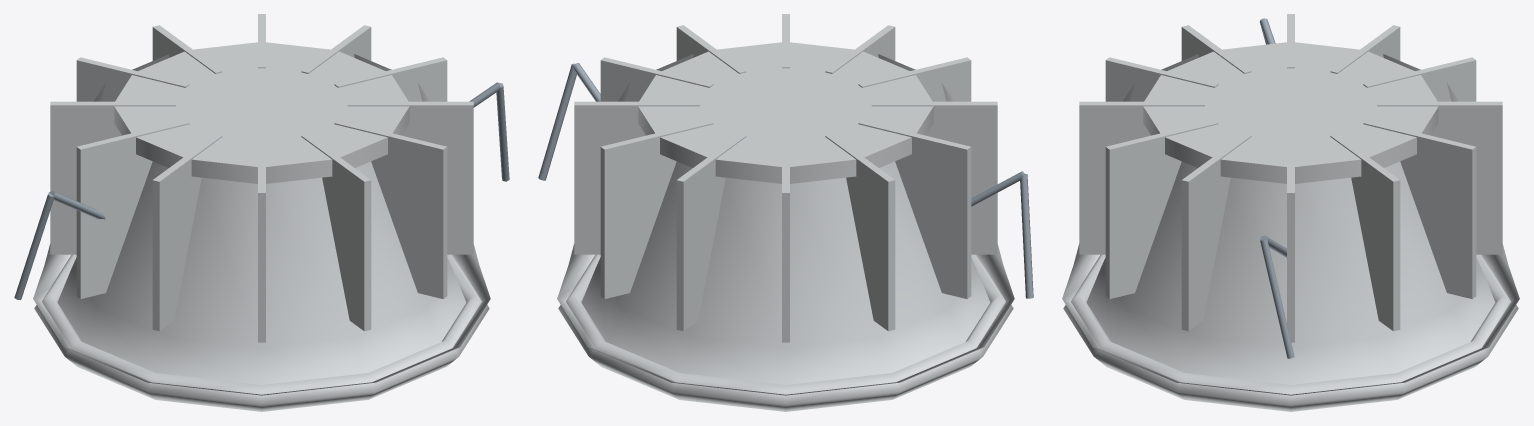
The model's file is source.glb.
The picture shows the model from 3 angles, left to right: view 1: azimuth 30°, elevation 25°; view 2: azimuth 150°, elevation 25°; view 3: azimuth 270°, elevation 25°; orthographic projection.
Parts seen in each view (by area): view 1: 粉末涂层铝壳, 机加工金属; view 2: 粉末涂层铝壳, 机加工金属; view 3: 粉末涂层铝壳, 机加工金属.
Boxes of the visible parts, bbox=[...] form: 粉末涂层铝壳: bbox=[33, 14, 490, 411]; 机加工金属: bbox=[14, 82, 509, 299]; 粉末涂层铝壳: bbox=[557, 14, 1014, 411]; 机加工金属: bbox=[538, 63, 1033, 298]; 粉末涂层铝壳: bbox=[1062, 14, 1519, 411]; 机加工金属: bbox=[1259, 18, 1294, 358].
Size of the model in its own units: 0.1073 by 0.0453 by 0.086.
